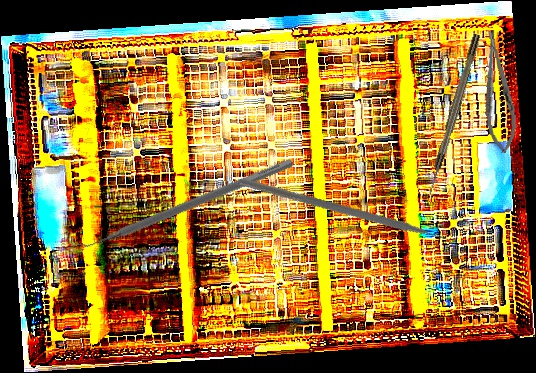Chopper: (237, 126, 461, 311)
Hook Surgical: (424, 33, 483, 196)
Needle Holder: (476, 28, 521, 155)
Spatula Surgical: (71, 149, 295, 258)
